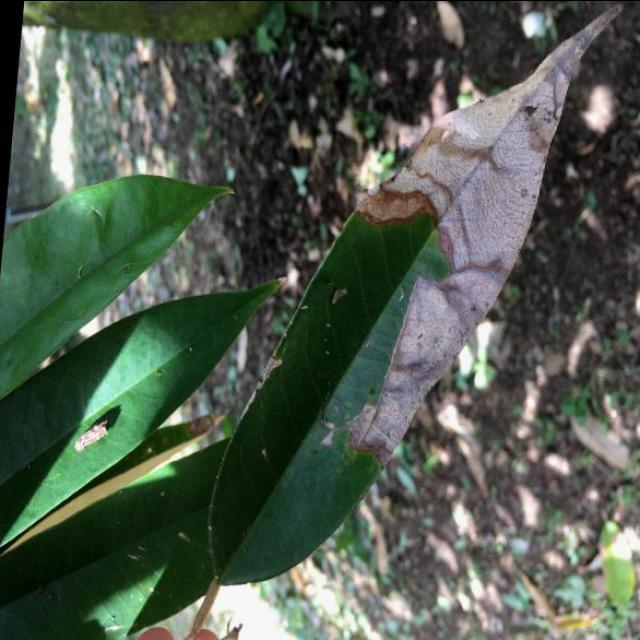Leaf Blight: (188, 0, 638, 619)
